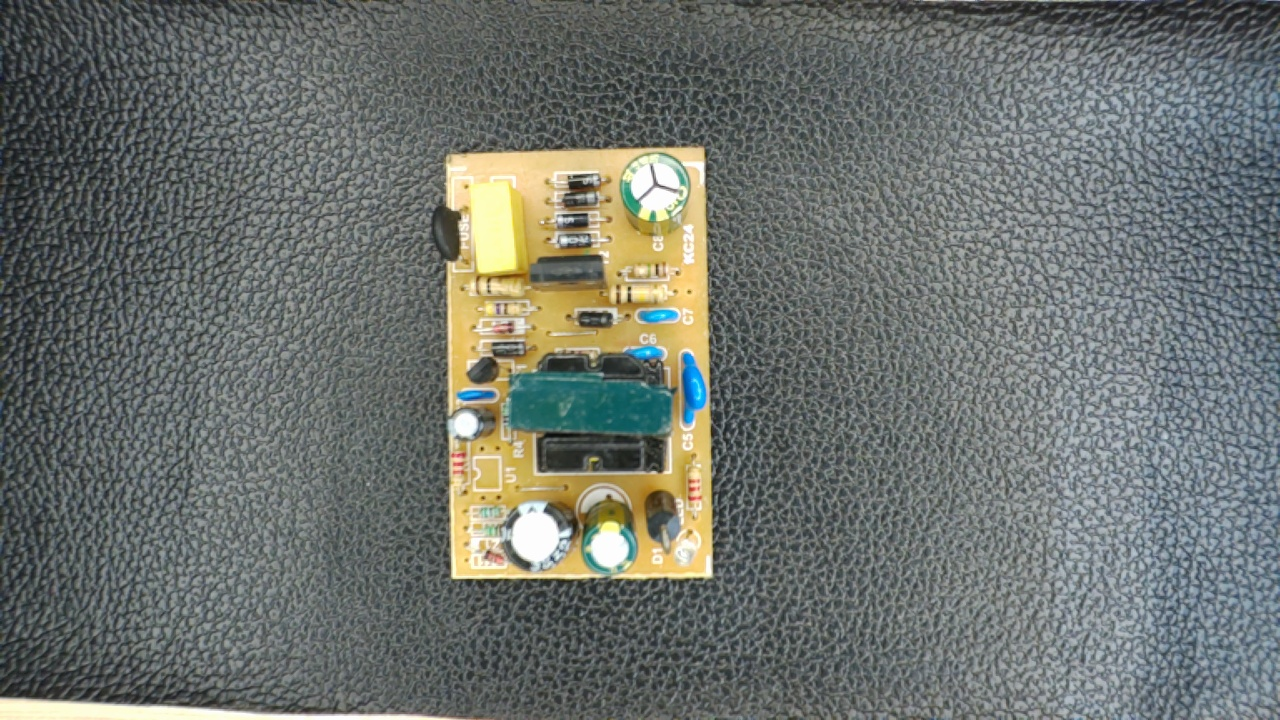fuse: (428, 192, 477, 272)
hv_capacitor: (614, 149, 693, 237)
mov: (671, 345, 711, 437)
